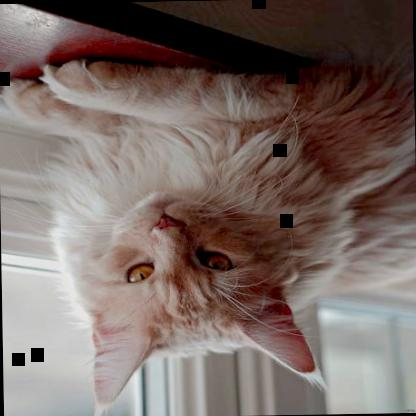cat: (1, 53, 415, 415)
